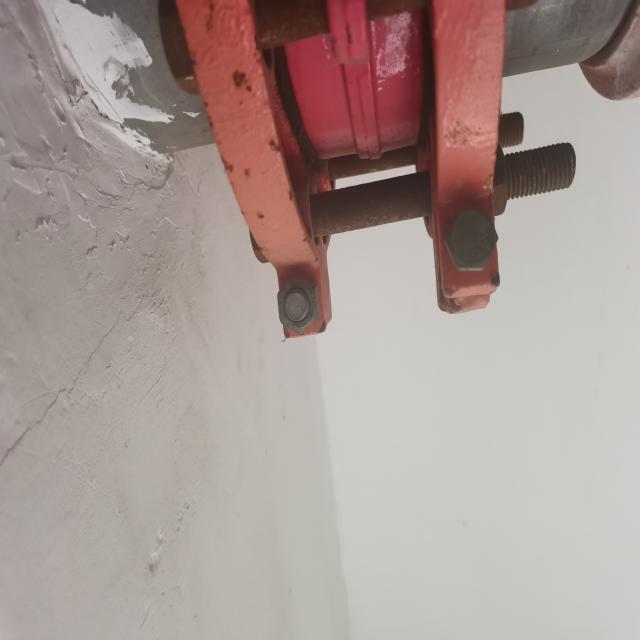bolt head: (442, 206, 499, 274)
bolt nut: (276, 274, 321, 336)
bolt side: (481, 141, 509, 219)
